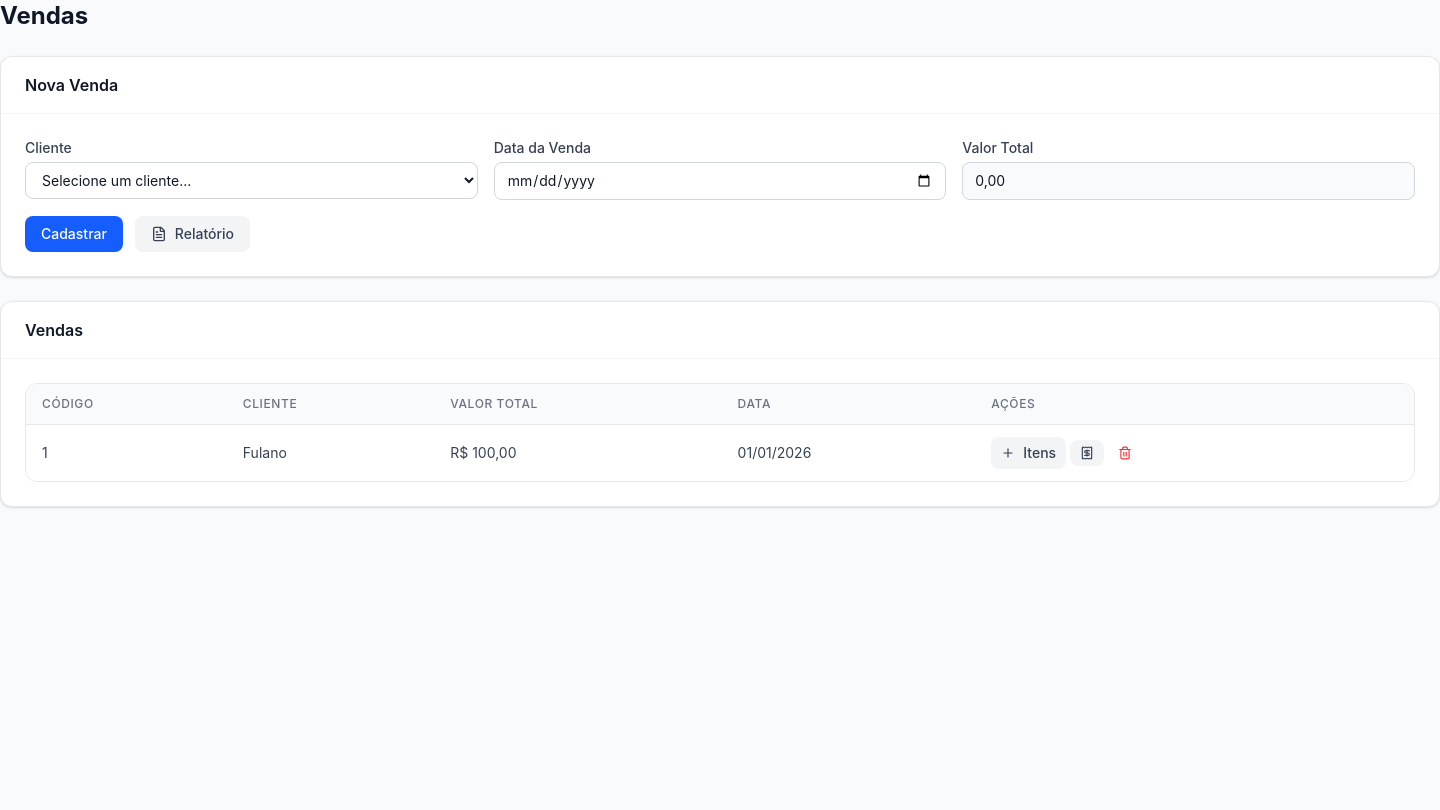
Test: VendasPage › should close the confirm modal when cancelling delete
Click the button titled "Excluir venda": (1125, 453) top-left (1108, 440), bottom-right (1142, 466)
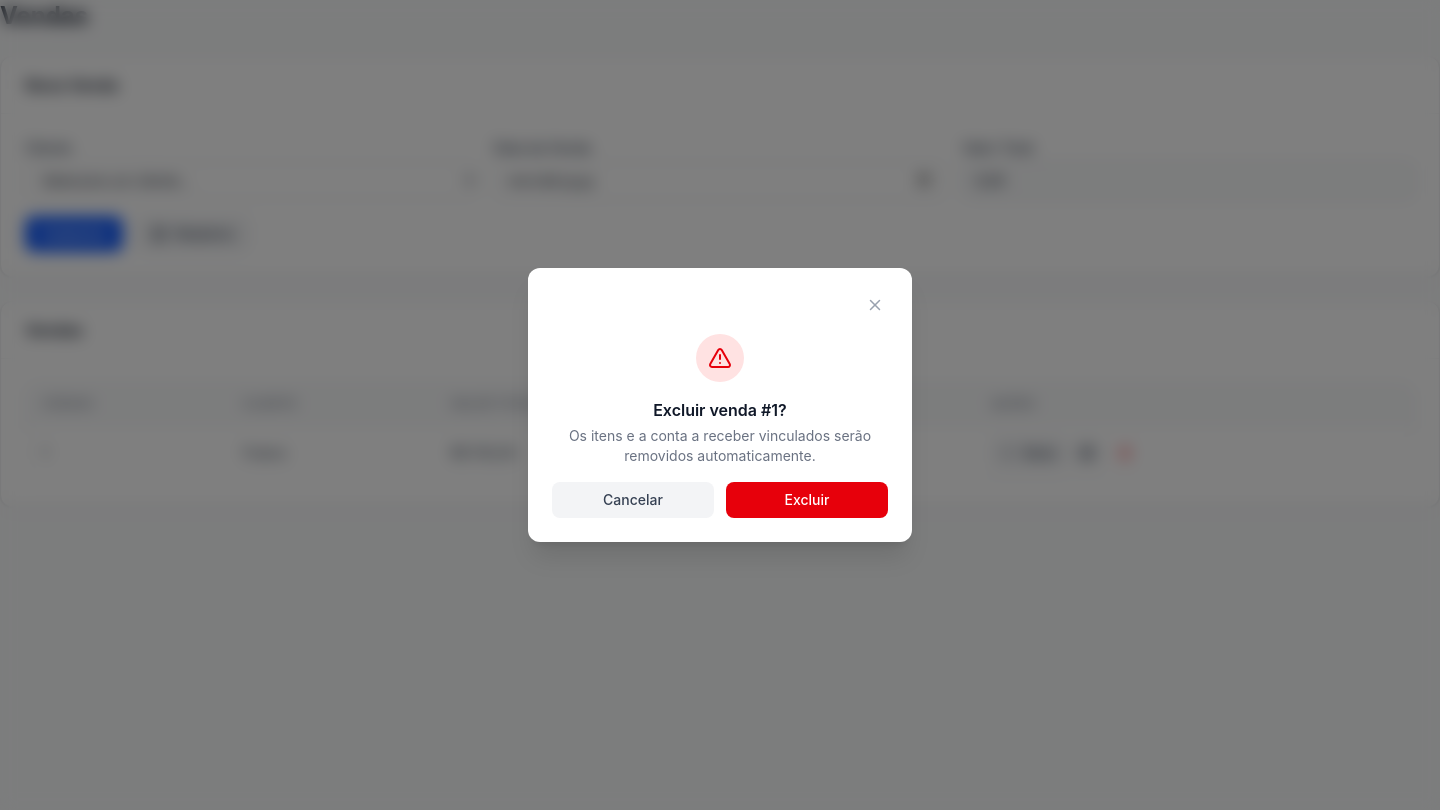
Click the button "Cancelar": (633, 500) top-left (552, 482), bottom-right (714, 518)
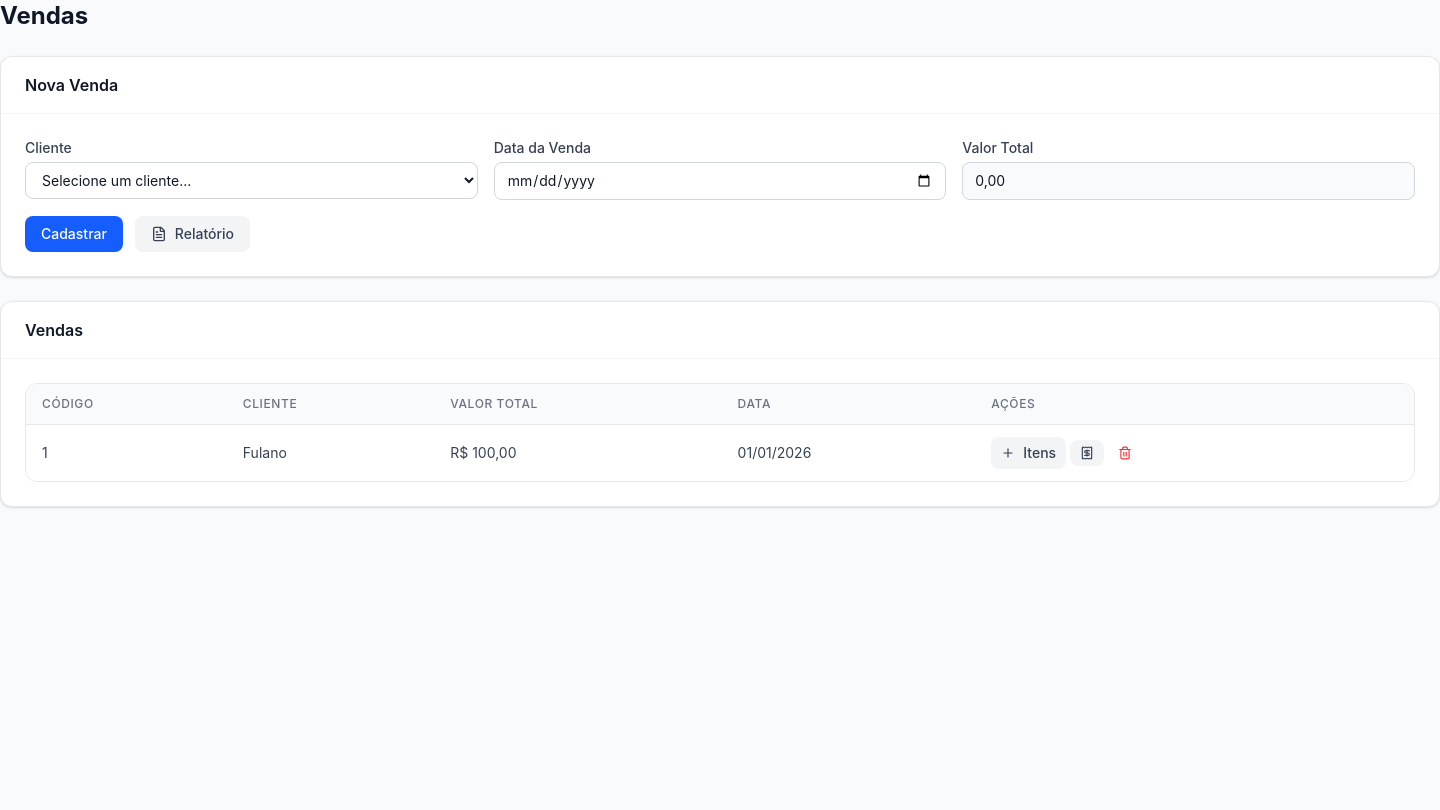
Now the text "removidos automaticamente" is gone
